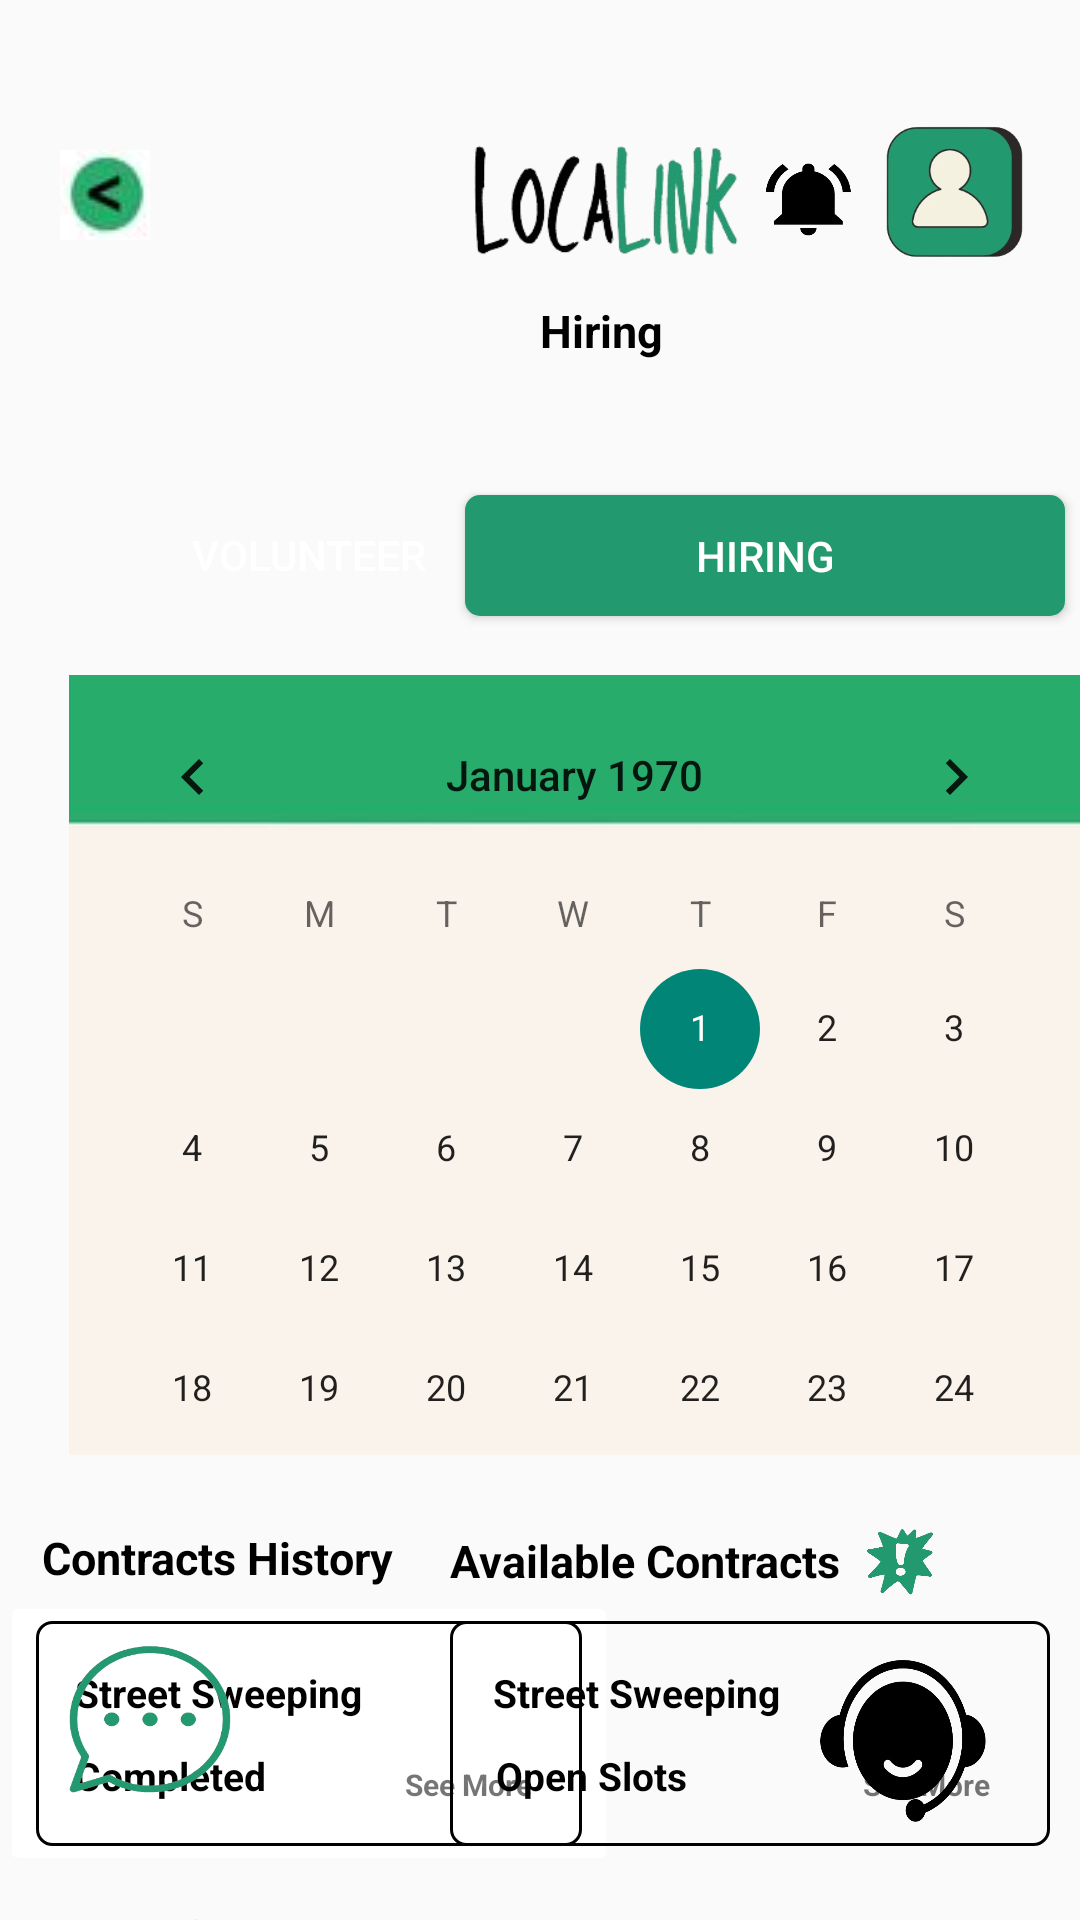

Named icons in this screenshot (1080 × 1920) and their bounding boxes, (x1, y1, x2, y2):
backbtn: (68, 154, 145, 235)
customer support: (820, 1660, 990, 1822)
